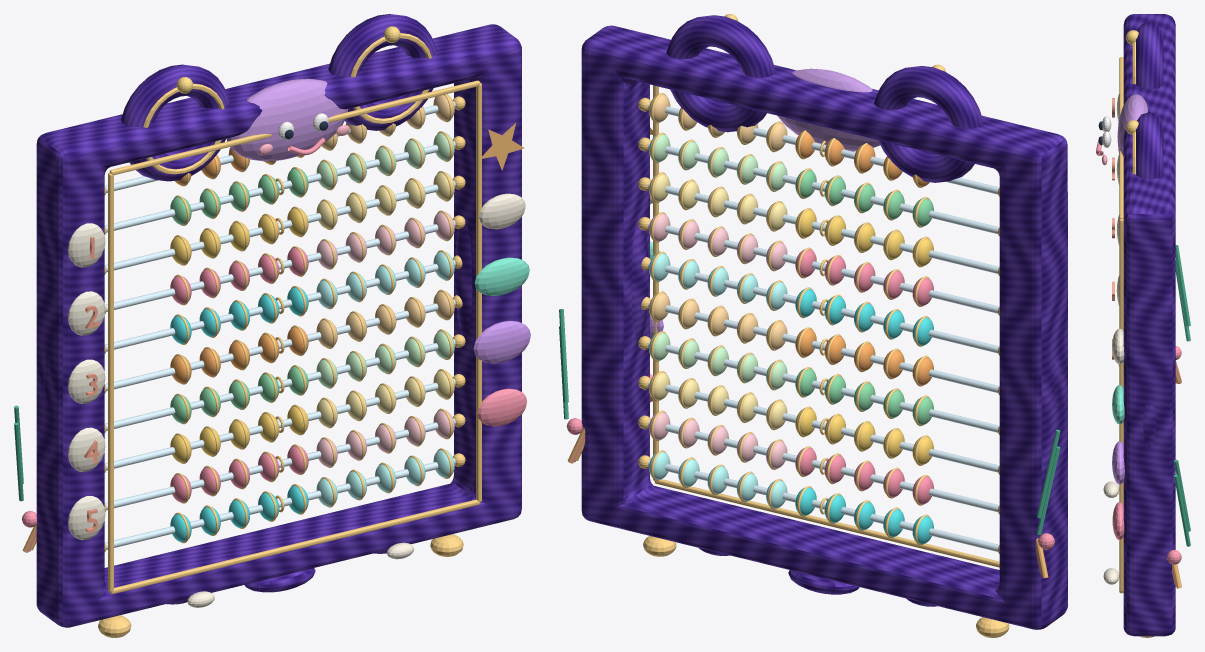
The model's file is kecrekan.glb.
3 views of the same model, side by side, from view 1: azimuth 30°, elevation 25°; view 2: azimuth 150°, elevation 25°; view 3: azimuth 270°, elevation 25° (orthographic). The views are drawn at different scales.
Visible parts, largest first — view 1: Frame_Body, Frame_Face, Frame_Loop_0, Frame_Loop_1, Frame_LipLeft, Frame_LipBottom, Frame_LipRight, Frame_LipTop, Sticker_Butterfly, Sticker_Fish, Rod_6, Frame_Wing_1 (+19 smaller); view 2: Frame_Body, Frame_Loop_0, Frame_Loop_1, Frame_Face, Frame_LipBottom, Rod_7, Rod_4, Rod_0, Rod_5, Rod_2, Rod_3, Rod_6 (+6 smaller); view 3: Frame_Body, Frame_Loop_0, Frame_Loop_1, Frame_LipRight, Frame_Face, Frame_LipTop, Frame_Wing_1, Sticker_Butterfly, Sticker_Fish, Decor_Seaweed_0_1, Sticker_Crab, Sticker_Shell (+8 smaller).
Part boxes in pixels (x1,y1,x2,y2): Frame_Body: [36, 24, 521, 627]; Frame_Face: [226, 78, 348, 161]; Frame_Loop_0: [121, 64, 229, 181]; Frame_Loop_1: [328, 14, 437, 130]; Frame_LipLeft: [108, 172, 113, 592]; Frame_LipBottom: [109, 499, 480, 594]; Frame_LipRight: [476, 83, 481, 501]; Frame_LipTop: [109, 80, 480, 175]; Sticker_Butterfly: [473, 320, 530, 363]; Sticker_Fish: [474, 257, 529, 295]; Rod_6: [105, 220, 455, 311]; Frame_Wing_1: [454, 216, 472, 339]; Frame_Body: [581, 25, 1067, 629]; Frame_Loop_0: [874, 66, 983, 182]; Frame_Loop_1: [666, 15, 775, 132]; Frame_Face: [777, 68, 879, 151]; Frame_LipBottom: [654, 479, 999, 567]; Rod_7: [648, 181, 999, 273]; Rod_4: [648, 301, 999, 392]; Rod_0: [648, 459, 999, 551]; Rod_5: [648, 261, 999, 353]; Rod_2: [648, 380, 999, 472]; Rod_3: [648, 340, 999, 432]; Rod_6: [648, 221, 999, 313]; Frame_Body: [1123, 14, 1175, 636]; Frame_Loop_0: [1136, 22, 1163, 89]; Frame_Loop_1: [1136, 112, 1163, 179]; Frame_LipRight: [1119, 219, 1123, 591]; Frame_Face: [1117, 94, 1147, 156]; Frame_LipTop: [1119, 57, 1123, 219]; Frame_Wing_1: [1143, 399, 1156, 447]; Sticker_Butterfly: [1112, 441, 1124, 484]; Sticker_Fish: [1112, 385, 1124, 424]; Decor_Seaweed_0_1: [1175, 245, 1190, 326]; Sticker_Crab: [1112, 502, 1124, 539]; Sticker_Shell: [1112, 328, 1124, 364].
Bounding box in the file's own units: 3.76 × 3.97 × 0.6951.
26 materials, 1 textured.
